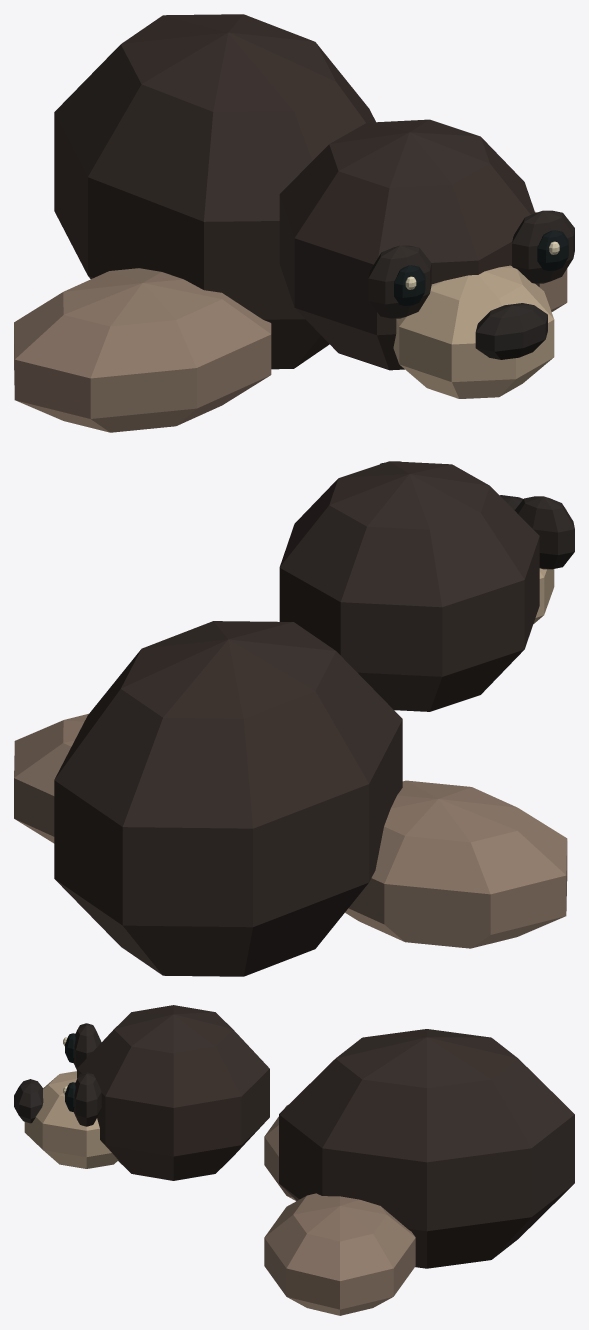
File: fauna-cave_mole.glb
3 renders of one model, top to bottom at view 1: azimuth 30°, elevation 25°; view 2: azimuth 150°, elevation 25°; view 3: azimuth 270°, elevation 25°, orthographic. The views are drawn at different scales.
Parts seen in each view (by area): view 1: Fauna_cave_mole; view 2: Fauna_cave_mole; view 3: Fauna_cave_mole.
Boxes of the visible parts, x1,y1,x2,y2 form: Fauna_cave_mole: [14, 14, 574, 432]; Fauna_cave_mole: [14, 461, 574, 976]; Fauna_cave_mole: [14, 1005, 574, 1315].
Bounding box in the file's own units: 1.23 × 0.75 × 1.55.
